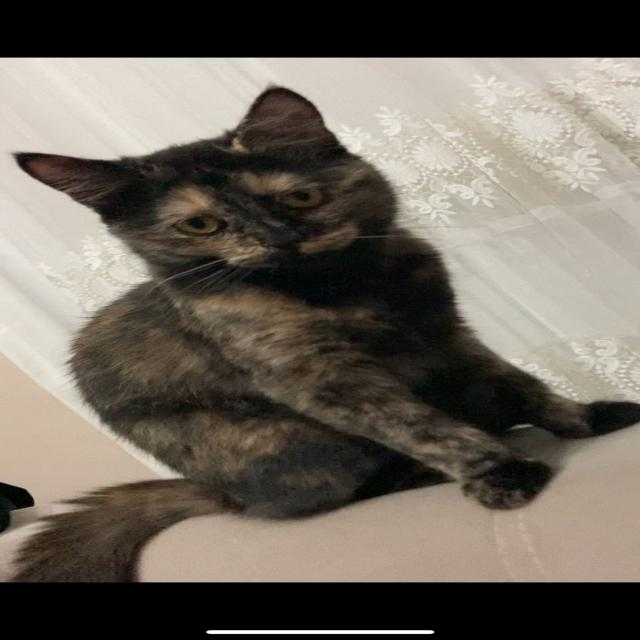authorized: (5, 84, 638, 582)
